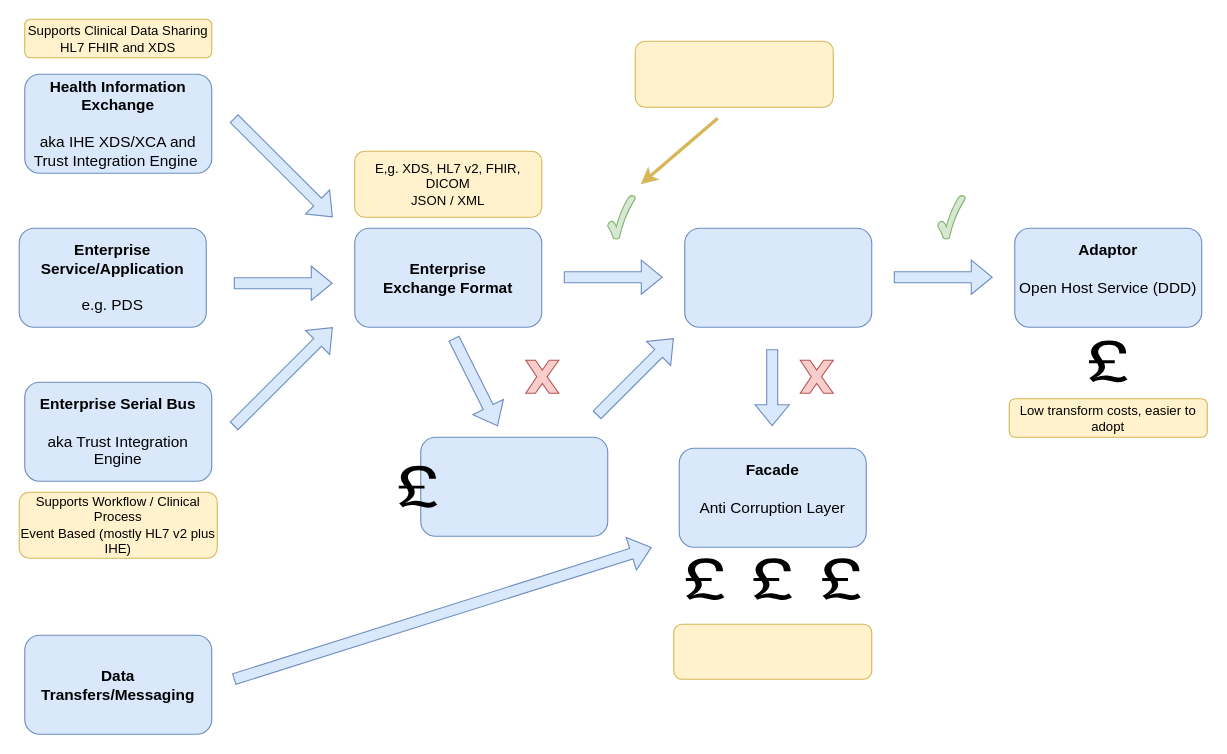
The diagram is 1227 pixels wide and 754 high, and some of its shapes have lost their labels. The centre of each missing label's shape, as x and y in pixels:
"Custom Payload Transform" belongs at (514,486).
"Enterprise Canonical Data Model" belongs at (778,277).
"High transform costs (especially within FHIR in UK). Harder to adopt" belongs at (772,651).
"Is common across standards i.e. XDS, HL7 v2, FHIR, DICOM. etc" belongs at (733,73).
